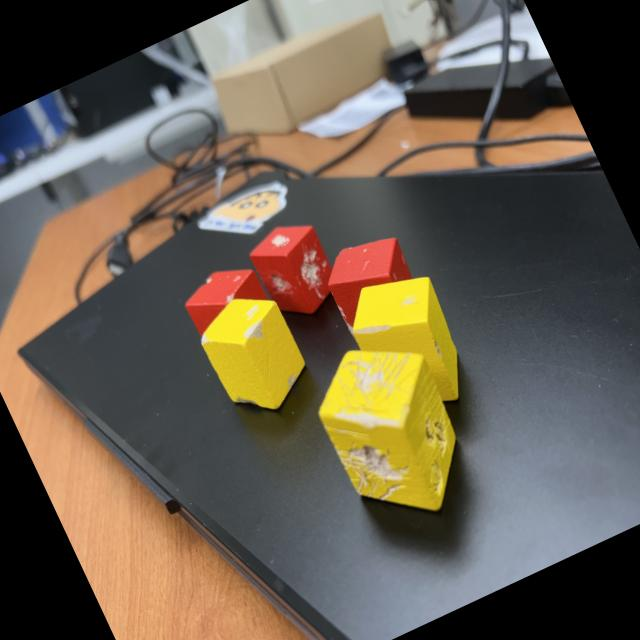broken: (298, 322, 487, 542), (336, 261, 482, 429), (192, 281, 321, 427), (175, 254, 288, 374), (244, 212, 348, 328), (315, 224, 424, 330)
